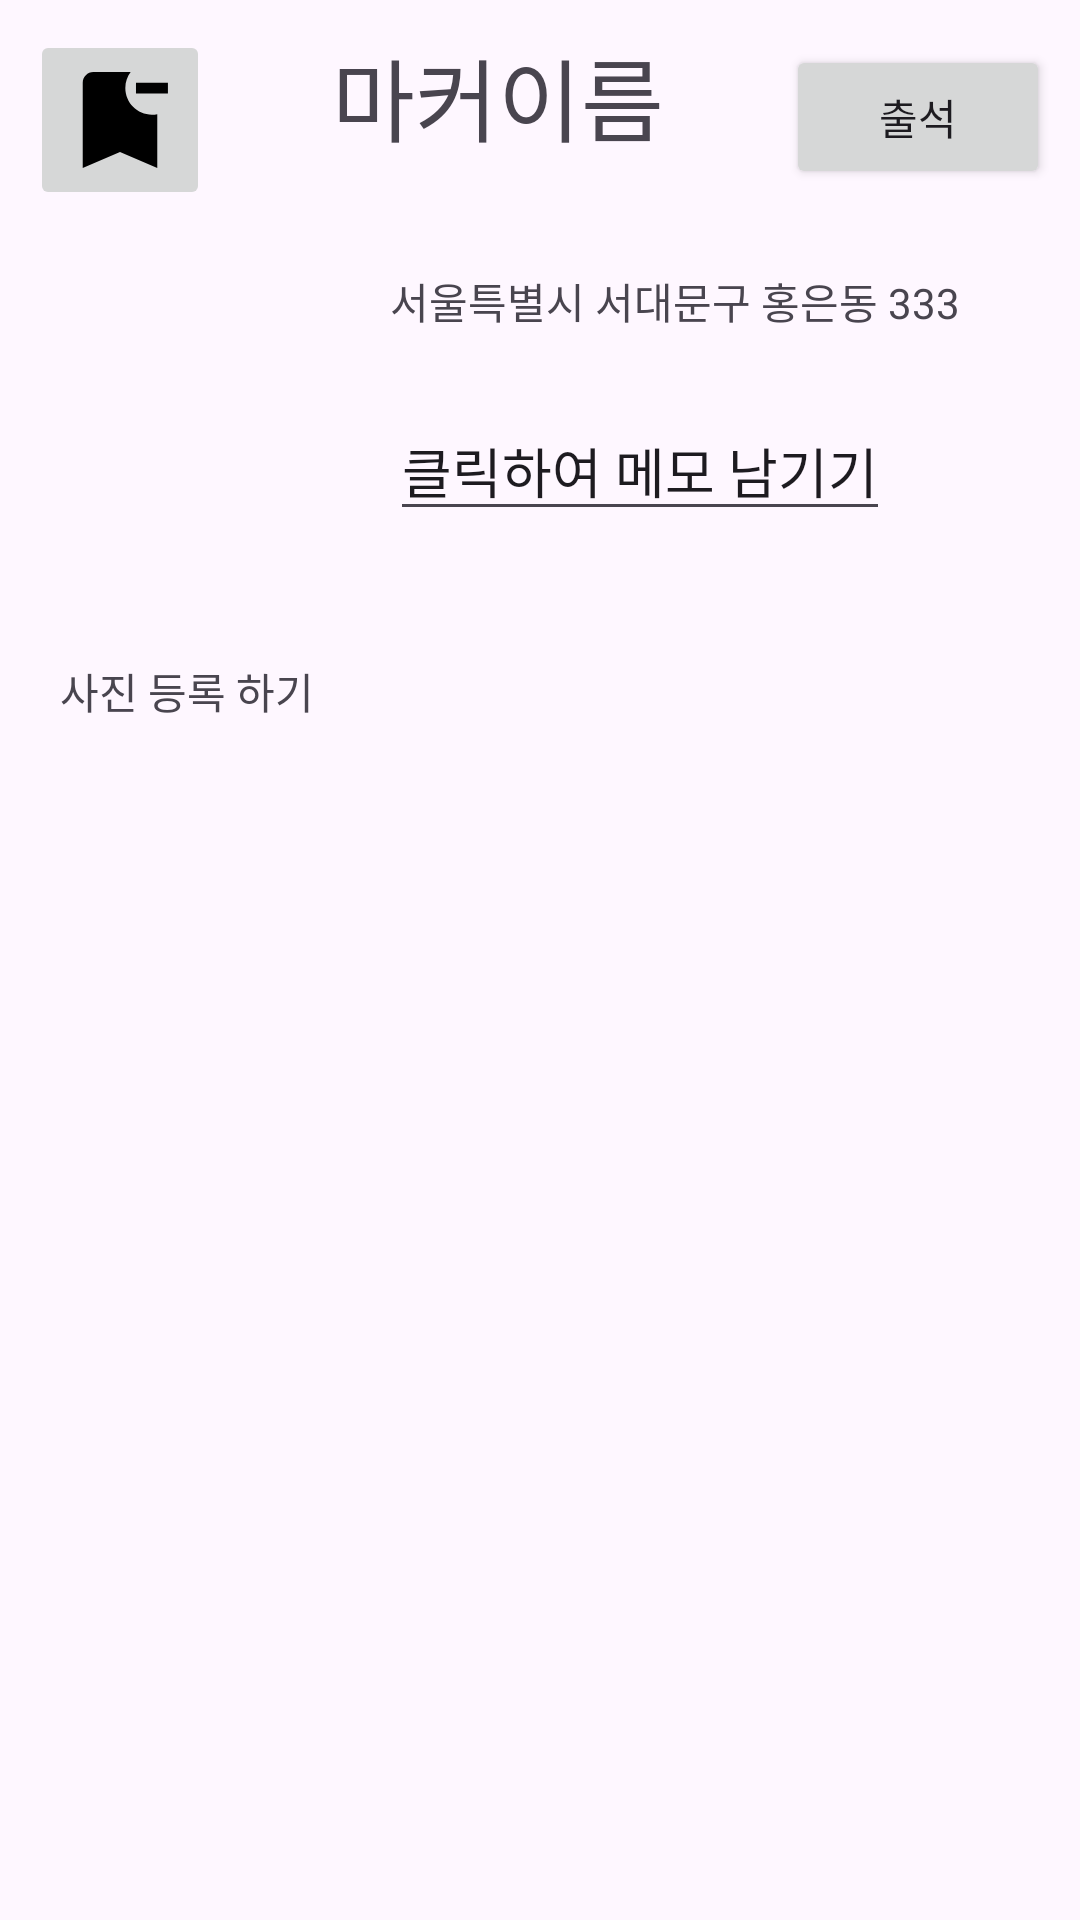

Where to tap for icons on this 1080×1920 app screen, as [x,y]:
markerremove: [120,120]
